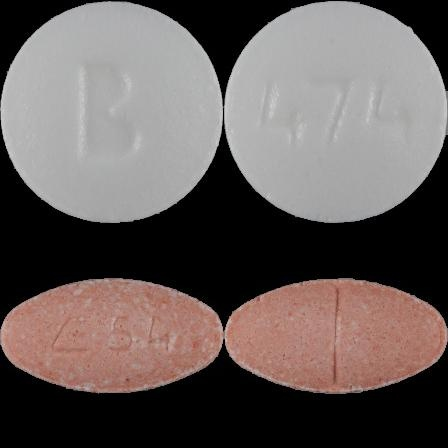54868-4677: (0, 0, 224, 224)
